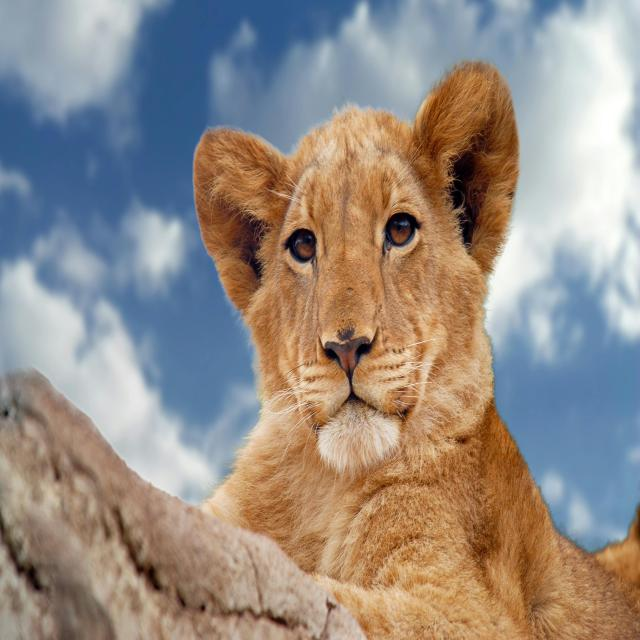Lion: (191, 57, 640, 640)
